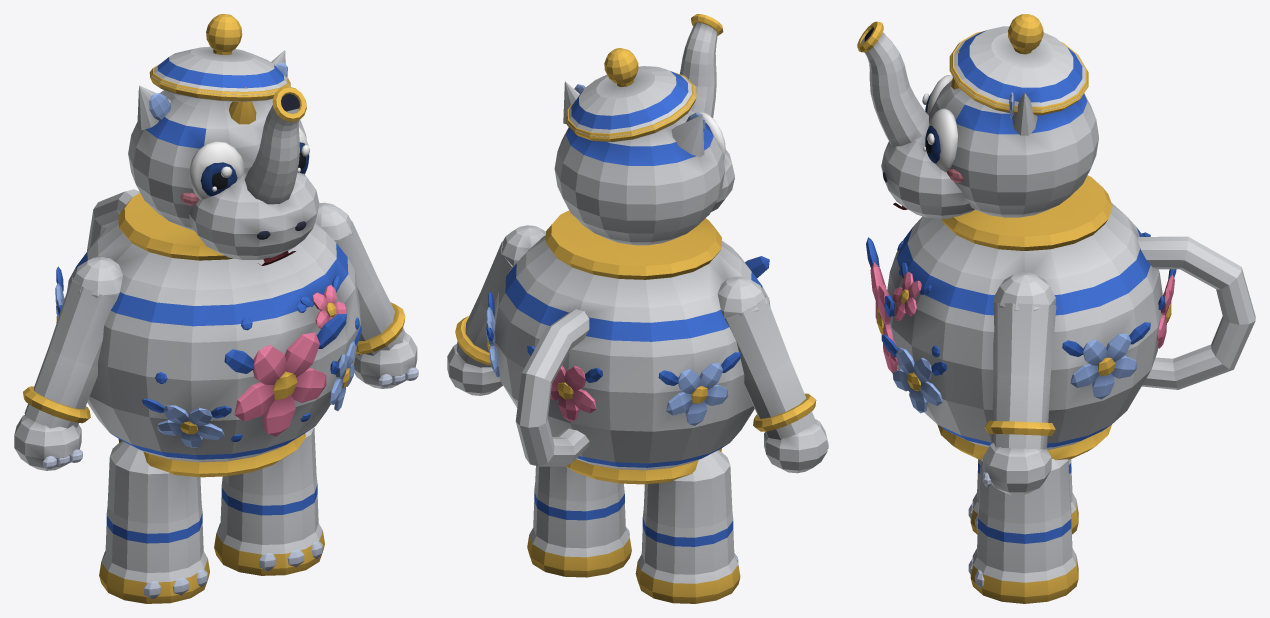
The model's file is skin_teiera.glb.
3 renders of one model, left to right at view 1: azimuth 30°, elevation 25°; view 2: azimuth 150°, elevation 25°; view 3: azimuth 270°, elevation 25°, orthographic. The views are drawn at different scales.
Parts seen in each view (by area): view 1: Body, Head, LegL, ArmL, LegR, ArmR, EyeL; view 2: Body, Head, LegL, ArmL, LegR, ArmR; view 3: Body, Head, ArmR, LegR, EyeR, LegL.
Part boxes in pixels (<box>): Body: <box>55,189,361,477</box>; Head: <box>128,14,319,265</box>; LegL: <box>99,441,209,603</box>; ArmL: <box>14,257,122,470</box>; LegR: <box>214,427,324,575</box>; ArmR: <box>315,202,418,388</box>; EyeL: <box>189,141,244,199</box>; Body: <box>486,210,770,484</box>; Head: <box>554,14,734,245</box>; LegL: <box>635,450,740,603</box>; ArmL: <box>717,276,828,473</box>; LegR: <box>527,466,631,577</box>; ArmR: <box>447,225,545,395</box>; Body: <box>866,175,1255,460</box>; Head: <box>857,14,1098,219</box>; ArmR: <box>982,272,1056,495</box>; LegR: <box>968,459,1078,603</box>; EyeR: <box>923,108,957,172</box>; LegL: <box>968,459,1078,534</box>.
Size of the model in its own units: 4.23 by 5.65 by 3.75.
